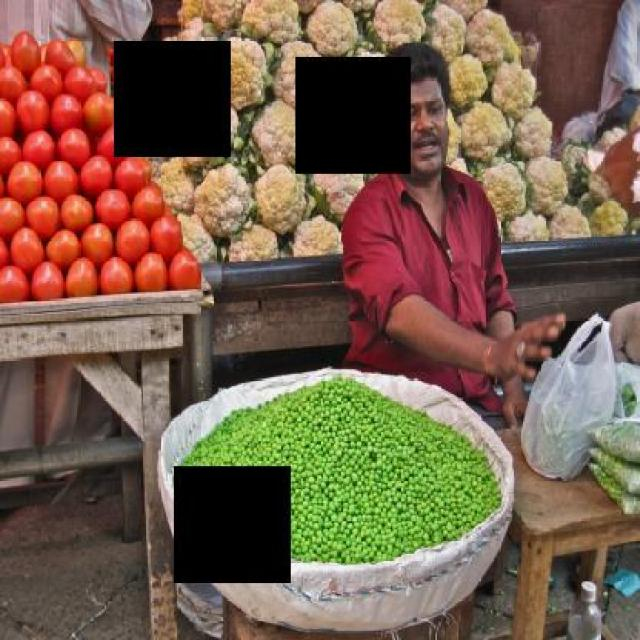plastic bag: (520, 310, 615, 482), (618, 360, 638, 420)
